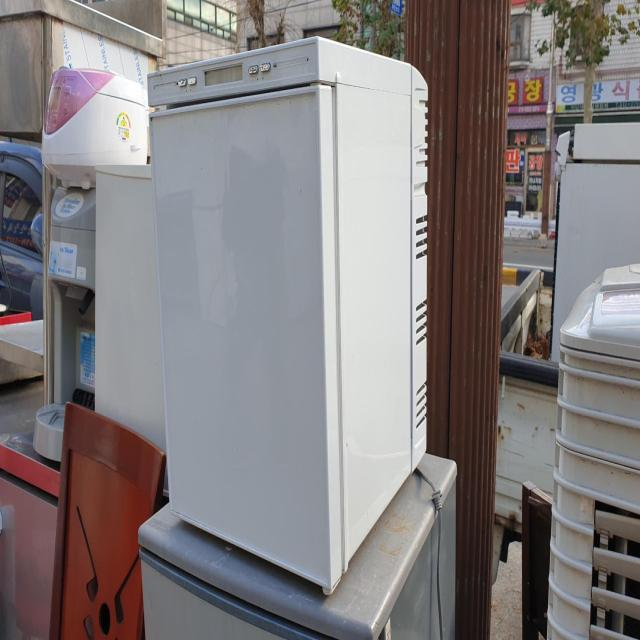refrigerator: (146, 27, 431, 602)
